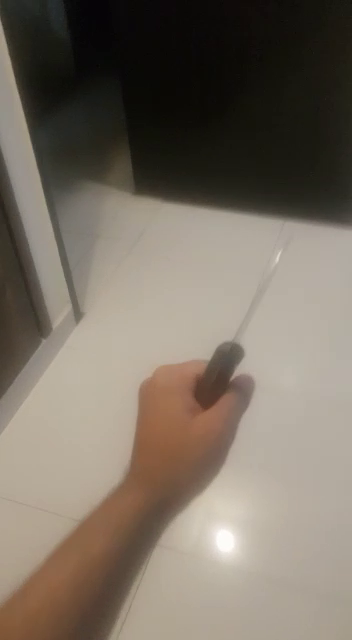knife: (113, 197, 313, 561)
